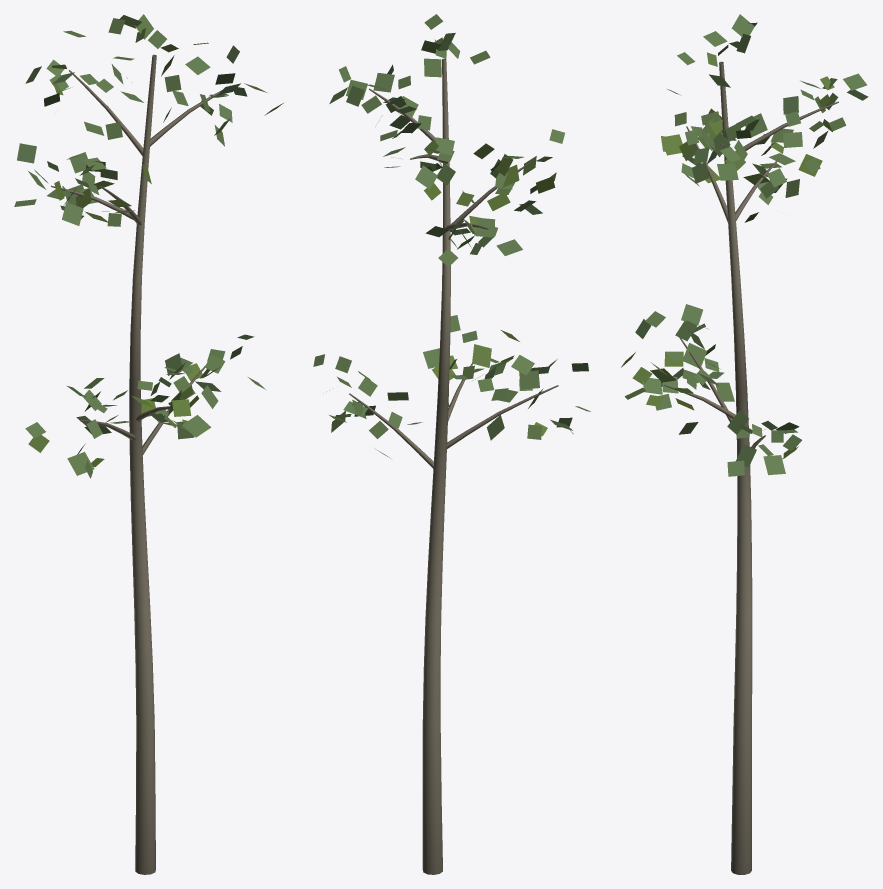
File: sapling_b.glb
The picture shows the model from 3 angles, left to right: view 1: azimuth 30°, elevation 25°; view 2: azimuth 150°, elevation 25°; view 3: azimuth 270°, elevation 25°; orthographic projection. The views are drawn at different scales.
Parts seen in each view (by area): view 1: sapling_b; view 2: sapling_b; view 3: sapling_b.
Boxes of the visible parts, x1,y1,x2,y2 form: sapling_b: (14,14,283,874); sapling_b: (313,14,590,874); sapling_b: (621,14,868,874).
Size of the model in its own units: 2.36 by 7.65 by 2.04.
